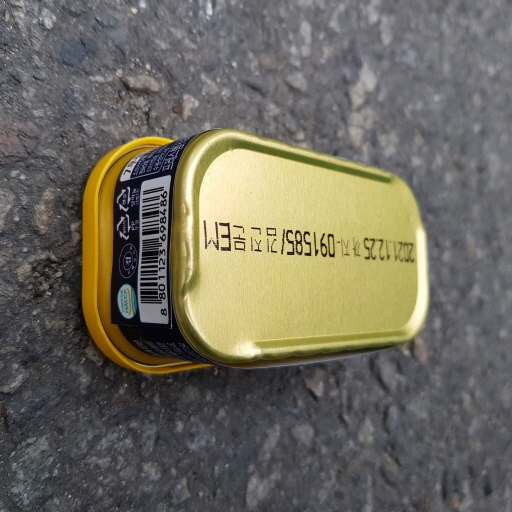Metal_2: (73, 132, 433, 380)
